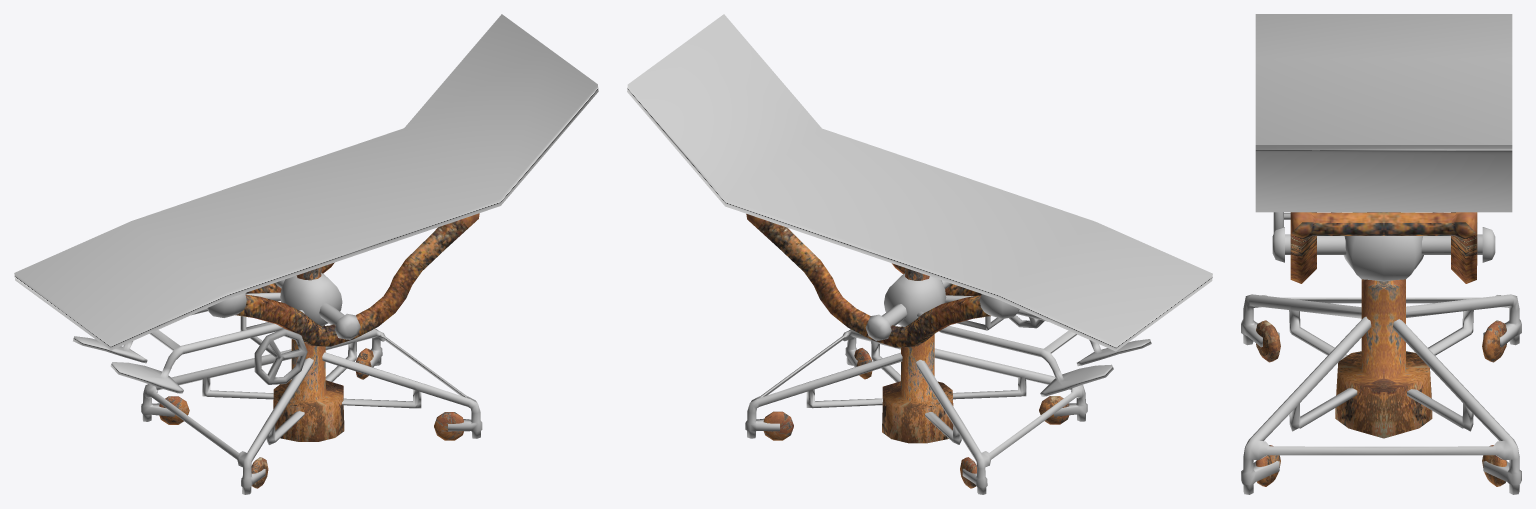
Rendered from TableDeChirurgie.fbx.
3 renders of one model, left to right at view 1: azimuth 30°, elevation 25°; view 2: azimuth 150°, elevation 25°; view 3: azimuth 270°, elevation 25°, orthographic. The views are drawn at different scales.
Parts seen in each view (by area): view 1: pTorus3; view 2: pTorus3; view 3: pTorus3.
Part boxes in pixels (<box>): pTorus3: <box>14,14,598,494</box>; pTorus3: <box>627,14,1212,494</box>; pTorus3: <box>1241,14,1521,494</box>.
Bounding box in the file's own units: 3 × 1.9 × 1.12.
